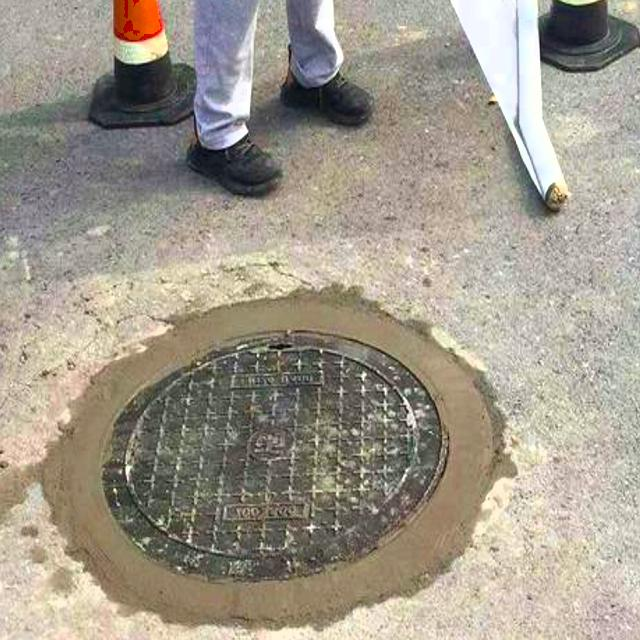good: (23, 260, 512, 636)
